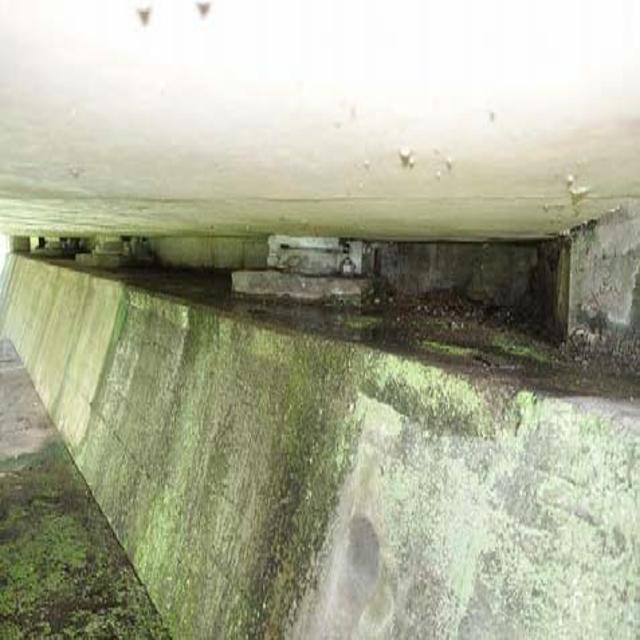leakage: (101, 274, 416, 640)
